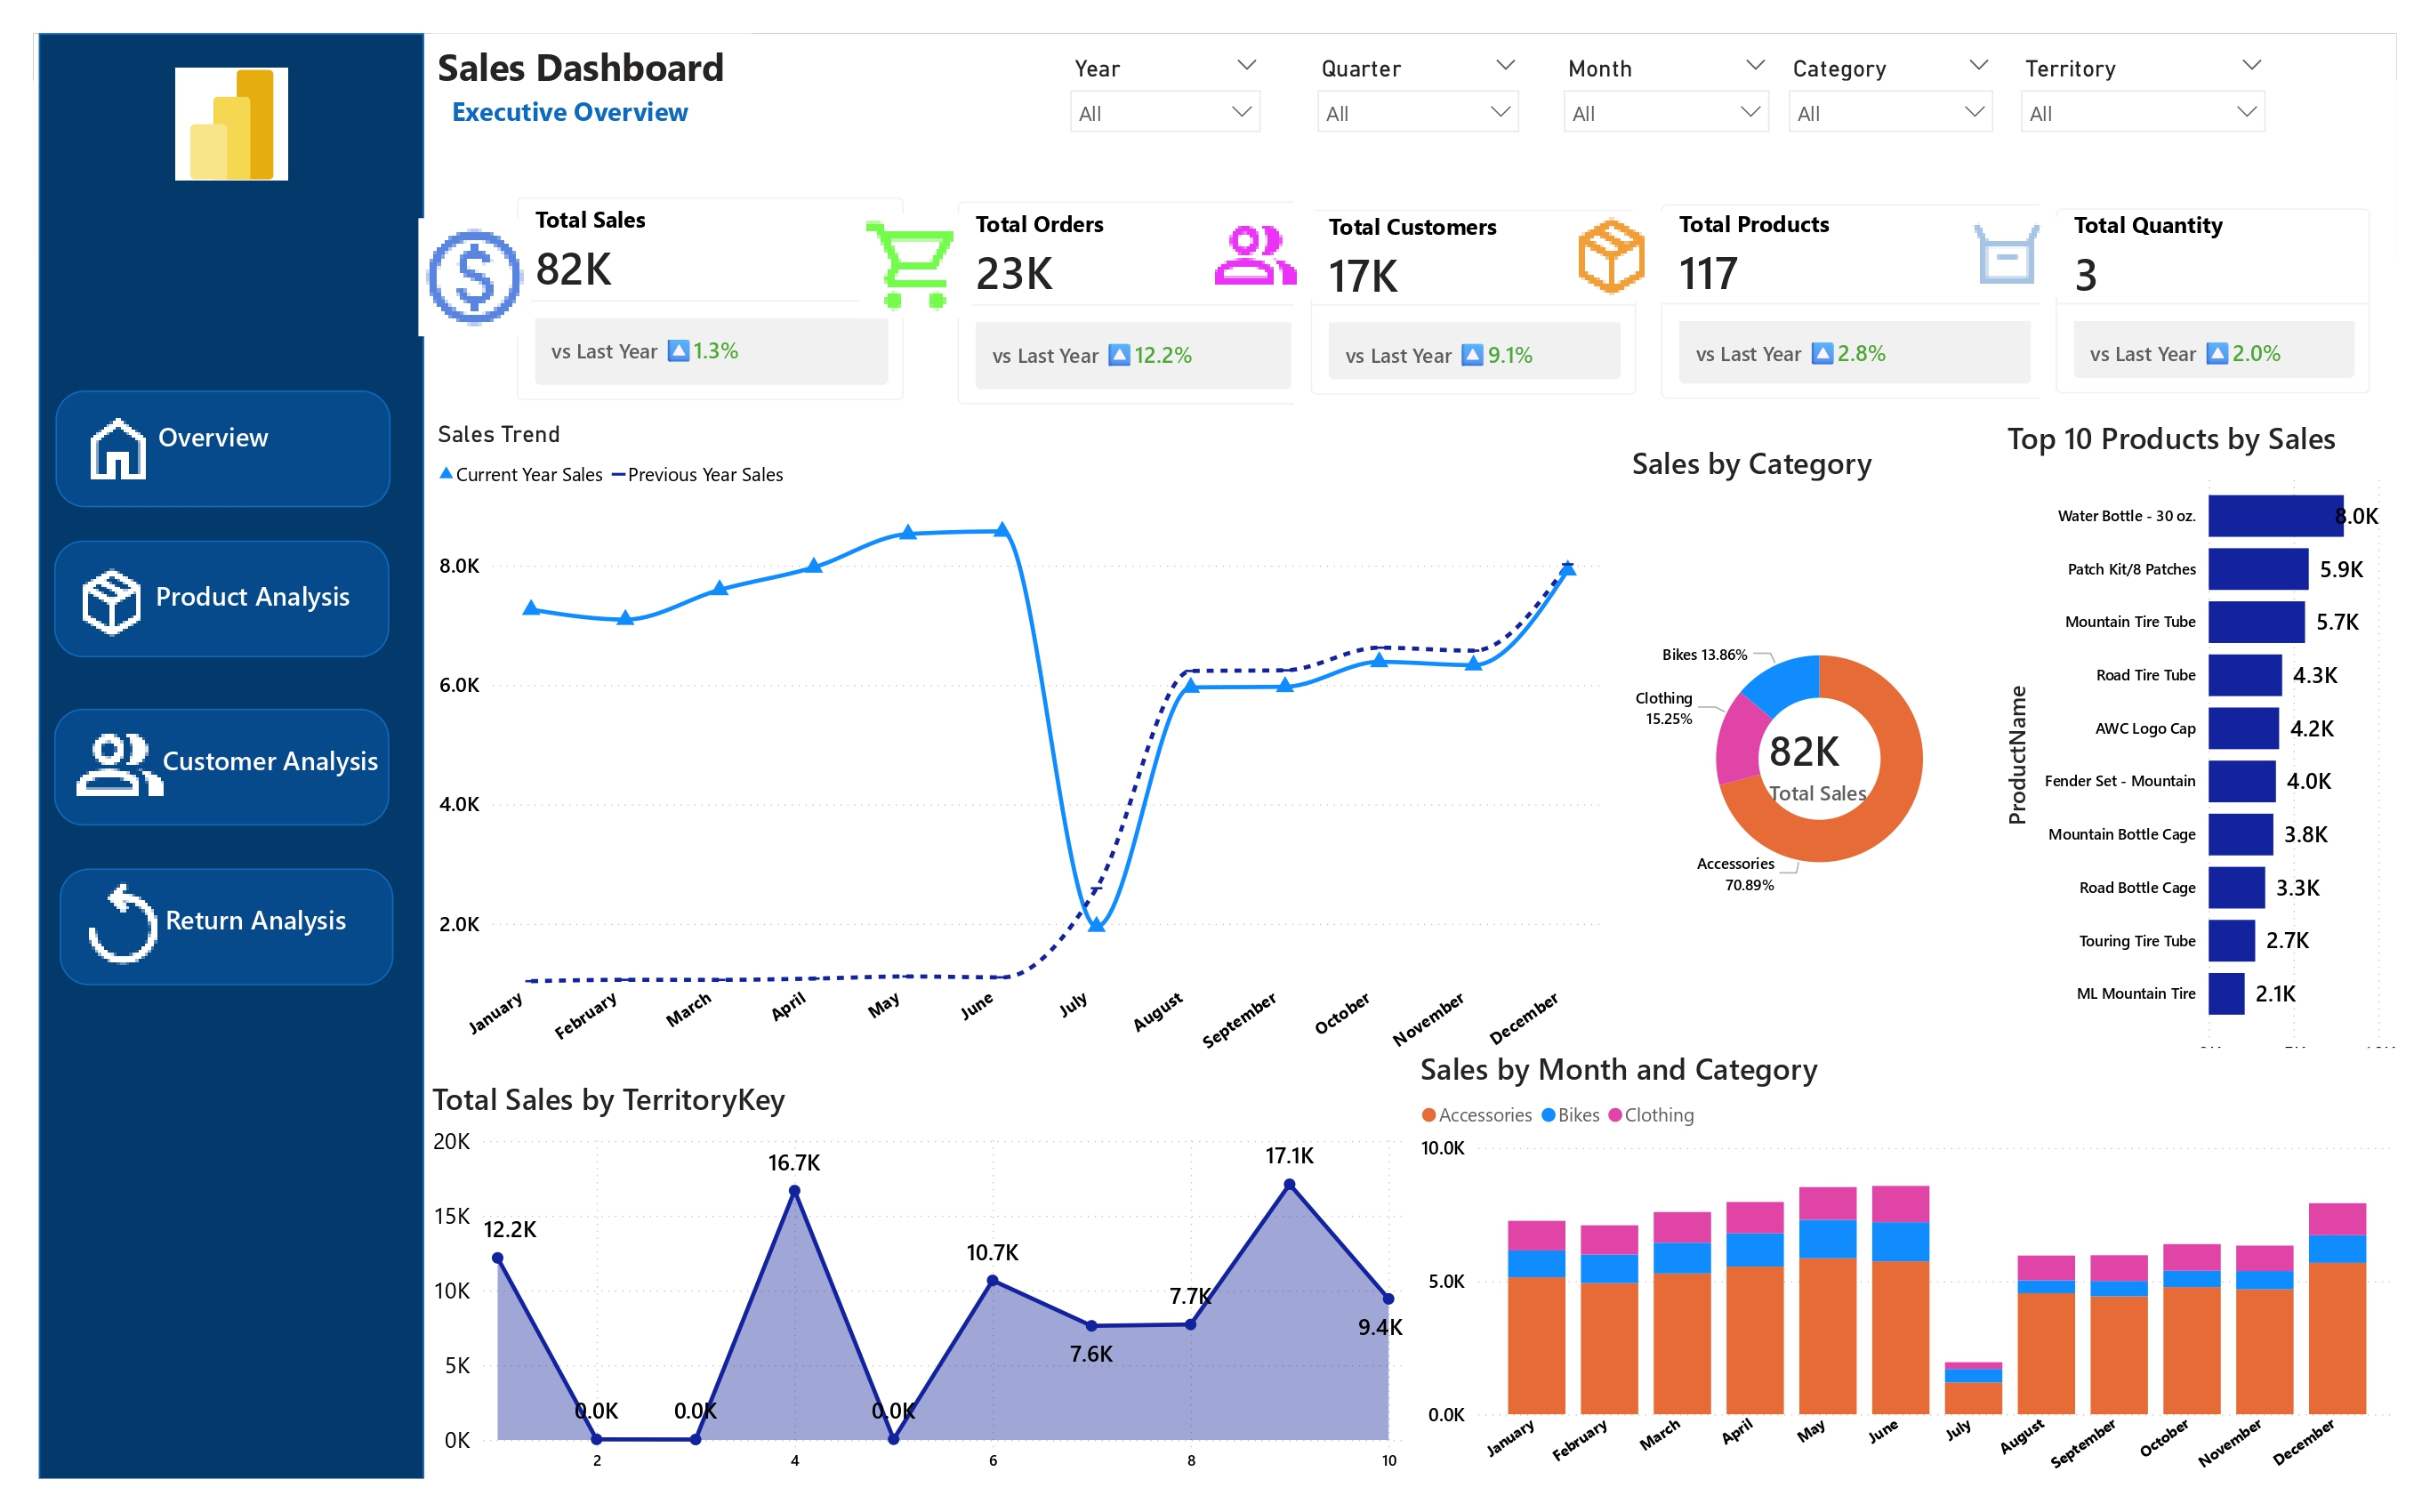

This screenshot's page, from the dashboard's own definition file:
{"tool":"powerbi","page":{"name":"Sales Dashboard","canvas":[1700,1040],"ordinal":1},"visuals":[{"type":"shape","box":[3.8,0,277.5,1400],"z":0},{"type":"group","id":"g1","title":"Group 1","box":[277.1,101.4,360.9,175.1],"z":0,"group":"g2"},{"type":"cardVisual","fields":{"Data":["sales.Total Orders"]},"box":[653,104,274.7,174.5],"z":0,"group":"g3"},{"type":"group","id":"g2","title":"Group 6","box":[277.1,101.4,1415.8,177.1],"z":1000},{"type":"cardVisual","fields":{"Data":["sales.Total Sales"]},"box":[336.1,101.4,302,175.1],"z":1000,"group":"g1"},{"type":"group","id":"g3","title":"Group 2","box":[594,104,333.7,174.5],"z":1000,"group":"g2"},{"type":"shape","box":[16.1,257.3,241.4,84.3],"z":1000,"group":"g6"},{"type":"shape","box":[15.2,364.7,241.4,84.3],"z":1000,"group":"g9"},{"type":"shape","box":[15.3,485.7,241.4,84.3],"z":1000,"group":"g13"},{"type":"shape","box":[18.6,601.4,240,84.3],"z":1000,"group":"g14"},{"type":"image","box":[78.2,25.4,128.9,80.3],"z":2000},{"type":"group","id":"g4","title":"Group 3","box":[835.6,110.1,329.1,162.3],"z":2000,"group":"g2"},{"type":"cardVisual","fields":{"Data":["sales.Total Customers"]},"box":[906.3,110.1,258.4,162.3],"z":2000,"group":"g4"},{"type":"group","id":"g5","title":"Group 4","box":[1091.4,106.2,369.4,168.6],"z":3000,"group":"g2"},{"type":"cardVisual","fields":{"Data":["sales.Total Products"]},"box":[1159.4,106.2,301.4,168.6],"z":3000,"group":"g5"},{"type":"group","id":"g6","title":"Group 8","box":[16.1,257.3,241.4,84.3],"z":3000},{"type":"group","id":"g7","title":"Group 5","box":[1381,109.9,312,162],"z":4000,"group":"g2"},{"type":"cardVisual","fields":{"Data":["sales.Total Quantity"]},"box":[1443,109.9,250,162],"z":4000,"group":"g7"},{"type":"image","box":[31.3,267.4,60,64.3],"z":4000,"group":"g8"},{"type":"group","id":"g8","title":"Group 7","box":[31.3,267.4,208.1,64.3],"z":4000,"group":"g6"},{"type":"group","id":"g9","title":"Group 8","box":[15.2,364.7,241.4,84.3],"z":4000},{"type":"image","box":[21.5,381.1,71.4,57.1],"z":4000,"group":"g10"},{"type":"group","id":"g10","title":"Group 7","box":[21.5,381.1,220.6,57.1],"z":4000,"group":"g9"},{"type":"group","id":"g11","title":"Group 7","box":[25.9,492.5,230.2,67.1],"z":4000,"group":"g13"},{"type":"image","box":[25.9,492.5,72.9,67.1],"z":4000,"group":"g11"},{"type":"image","box":[27.9,608.4,72.9,67.1],"z":4000,"group":"g12"},{"type":"group","id":"g12","title":"Group 7","box":[27.9,608.4,230.2,67.1],"z":4000,"group":"g14"},{"type":"image","box":[277.1,133.6,80.8,84.7],"z":5000,"group":"g1"},{"type":"textbox","box":[85.1,272.5,154.3,48.6],"z":5000,"group":"g8"},{"type":"textbox","box":[83.5,386.7,158.6,38.6],"z":5000,"group":"g10"},{"type":"group","id":"g13","title":"Group 8","box":[15.3,485.7,241.4,84.3],"z":5000},{"type":"textbox","box":[87.5,504.7,168.6,45.7],"z":5000,"group":"g11"},{"type":"textbox","box":[89.5,620.6,168.6,45.7],"z":5000,"group":"g12"},{"type":"image","box":[594,130.4,80.7,74.3],"z":6000,"group":"g3"},{"type":"group","id":"g14","title":"Group 8","box":[18.6,601.4,240,84.3],"z":6000},{"type":"textbox","box":[285.7,0,231.4,55.7],"z":7000},{"type":"image","box":[835.6,128.5,85.7,62.9],"z":7000,"group":"g4"},{"type":"textbox","box":[296,38,222,40],"z":8000},{"type":"image","box":[1091.4,128.1,88.7,65.4],"z":8000,"group":"g5"},{"type":"slicer","fields":{"Values":["calendar.Year"]},"box":[735.7,10,157.1,68.6],"z":9000},{"type":"image","box":[1381,132.5,77.7,58.6],"z":9000,"group":"g7"},{"type":"slicer","fields":{"Values":["calendar.Quarter"]},"box":[914.3,10,164.3,68.6],"z":10000},{"type":"slicer","fields":{"Values":["calendar.Month Name"]},"box":[1091.4,10,167.1,68.6],"z":11000},{"type":"slicer","fields":{"Values":["Merge.CategoryName"]},"box":[1252.9,10,167.1,68.6],"z":12000},{"type":"slicer","fields":{"Values":["sales.TerritoryKey"]},"box":[1420,10,195.7,68.6],"z":13000},{"type":"donutChart","fields":{"Category":["Merge.CategoryName"],"Y":["sales.Total Sales"]},"box":[1150,294.3,270,422.9],"z":14000},{"type":"lineChart","title":"Sales Trend","fields":{"Category":["calendar.Month Name"],"Y":["sales.Total Sales"],"Y2":["sales.Total Sales PY"]},"box":[286,278,850,474],"z":15000},{"type":"cardVisual","fields":{"Data":["sales.Total Sales","sales.Total Sales"]},"box":[1220,454.3,161.4,142.9],"z":16000},{"type":"clusteredBarChart","title":"Top 10 Products by Sales","fields":{"Category":["product.ProductName"],"Y":["sales.Total Sales"]},"box":[1420,276,280,474],"z":17000},{"type":"areaChart","fields":{"Category":["sales.TerritoryKey"],"Y":["sales.Total Sales"]},"box":[286.7,751.7,698.3,288.3],"z":18000},{"type":"columnChart","title":"Sales by Month and Category","fields":{"Category":["calendar.Month Name"],"Series":["Merge.CategoryName"],"Y":["sales.Total Sales"]},"box":[998,730,702,310],"z":19000},{"type":"actionButton","box":[38.8,272.5,168.8,58.8],"z":20000},{"type":"actionButton","box":[37.5,381.2,205,57.5],"z":21000},{"type":"actionButton","box":[35,506.2,221.2,45],"z":22000},{"type":"actionButton","box":[31.2,608.8,207.5,76.2],"z":23000}]}

Visuals, with their boxes on the page's 1700x1040 design canvas (x1, y1, x2, y2). These are canvas units, not pixel positions in the 2430x1512 screenshot, which may show the page scaled, cropped or inside an application window:
shape: [4, 0, 281, 1400]
"Group 1" group: [277, 101, 638, 276]
cardVisual - sales.Total Orders: [653, 104, 928, 278]
"Group 6" group: [277, 101, 1693, 278]
cardVisual - sales.Total Sales: [336, 101, 638, 276]
"Group 2" group: [594, 104, 928, 278]
shape: [16, 257, 258, 342]
shape: [15, 365, 257, 449]
shape: [15, 486, 257, 570]
shape: [19, 601, 259, 686]
image: [78, 25, 207, 106]
"Group 3" group: [836, 110, 1165, 272]
cardVisual - sales.Total Customers: [906, 110, 1165, 272]
"Group 4" group: [1091, 106, 1461, 275]
cardVisual - sales.Total Products: [1159, 106, 1461, 275]
"Group 8" group: [16, 257, 258, 342]
"Group 5" group: [1381, 110, 1693, 272]
cardVisual - sales.Total Quantity: [1443, 110, 1693, 272]
image: [31, 267, 91, 332]
"Group 7" group: [31, 267, 239, 332]
"Group 8" group: [15, 365, 257, 449]
image: [22, 381, 93, 438]
"Group 7" group: [22, 381, 242, 438]
"Group 7" group: [26, 492, 256, 560]
image: [26, 492, 99, 560]
image: [28, 608, 101, 676]
"Group 7" group: [28, 608, 258, 676]
image: [277, 134, 358, 218]
textbox: [85, 272, 239, 321]
textbox: [84, 387, 242, 425]
"Group 8" group: [15, 486, 257, 570]
textbox: [88, 505, 256, 550]
textbox: [90, 621, 258, 666]
image: [594, 130, 675, 205]
"Group 8" group: [19, 601, 259, 686]
textbox: [286, 0, 517, 56]
image: [836, 128, 921, 191]
textbox: [296, 38, 518, 78]
image: [1091, 128, 1180, 194]
slicer - calendar.Year: [736, 10, 893, 79]
image: [1381, 132, 1459, 191]
slicer - calendar.Quarter: [914, 10, 1079, 79]
slicer - calendar.Month Name: [1091, 10, 1258, 79]
slicer - Merge.CategoryName: [1253, 10, 1420, 79]
slicer - sales.TerritoryKey: [1420, 10, 1616, 79]
donutChart - Merge.CategoryName x sales.Total Sales: [1150, 294, 1420, 717]
"Sales Trend" lineChart: [286, 278, 1136, 752]
cardVisual - sales.Total Sales x sales.Total Sales: [1220, 454, 1381, 597]
"Top 10 Products by Sales" clusteredBarChart: [1420, 276, 1700, 750]
areaChart - sales.TerritoryKey x sales.Total Sales: [287, 752, 985, 1040]
"Sales by Month and Category" columnChart: [998, 730, 1700, 1040]
actionButton: [39, 272, 208, 331]
actionButton: [38, 381, 242, 439]
actionButton: [35, 506, 256, 551]
actionButton: [31, 609, 239, 685]
